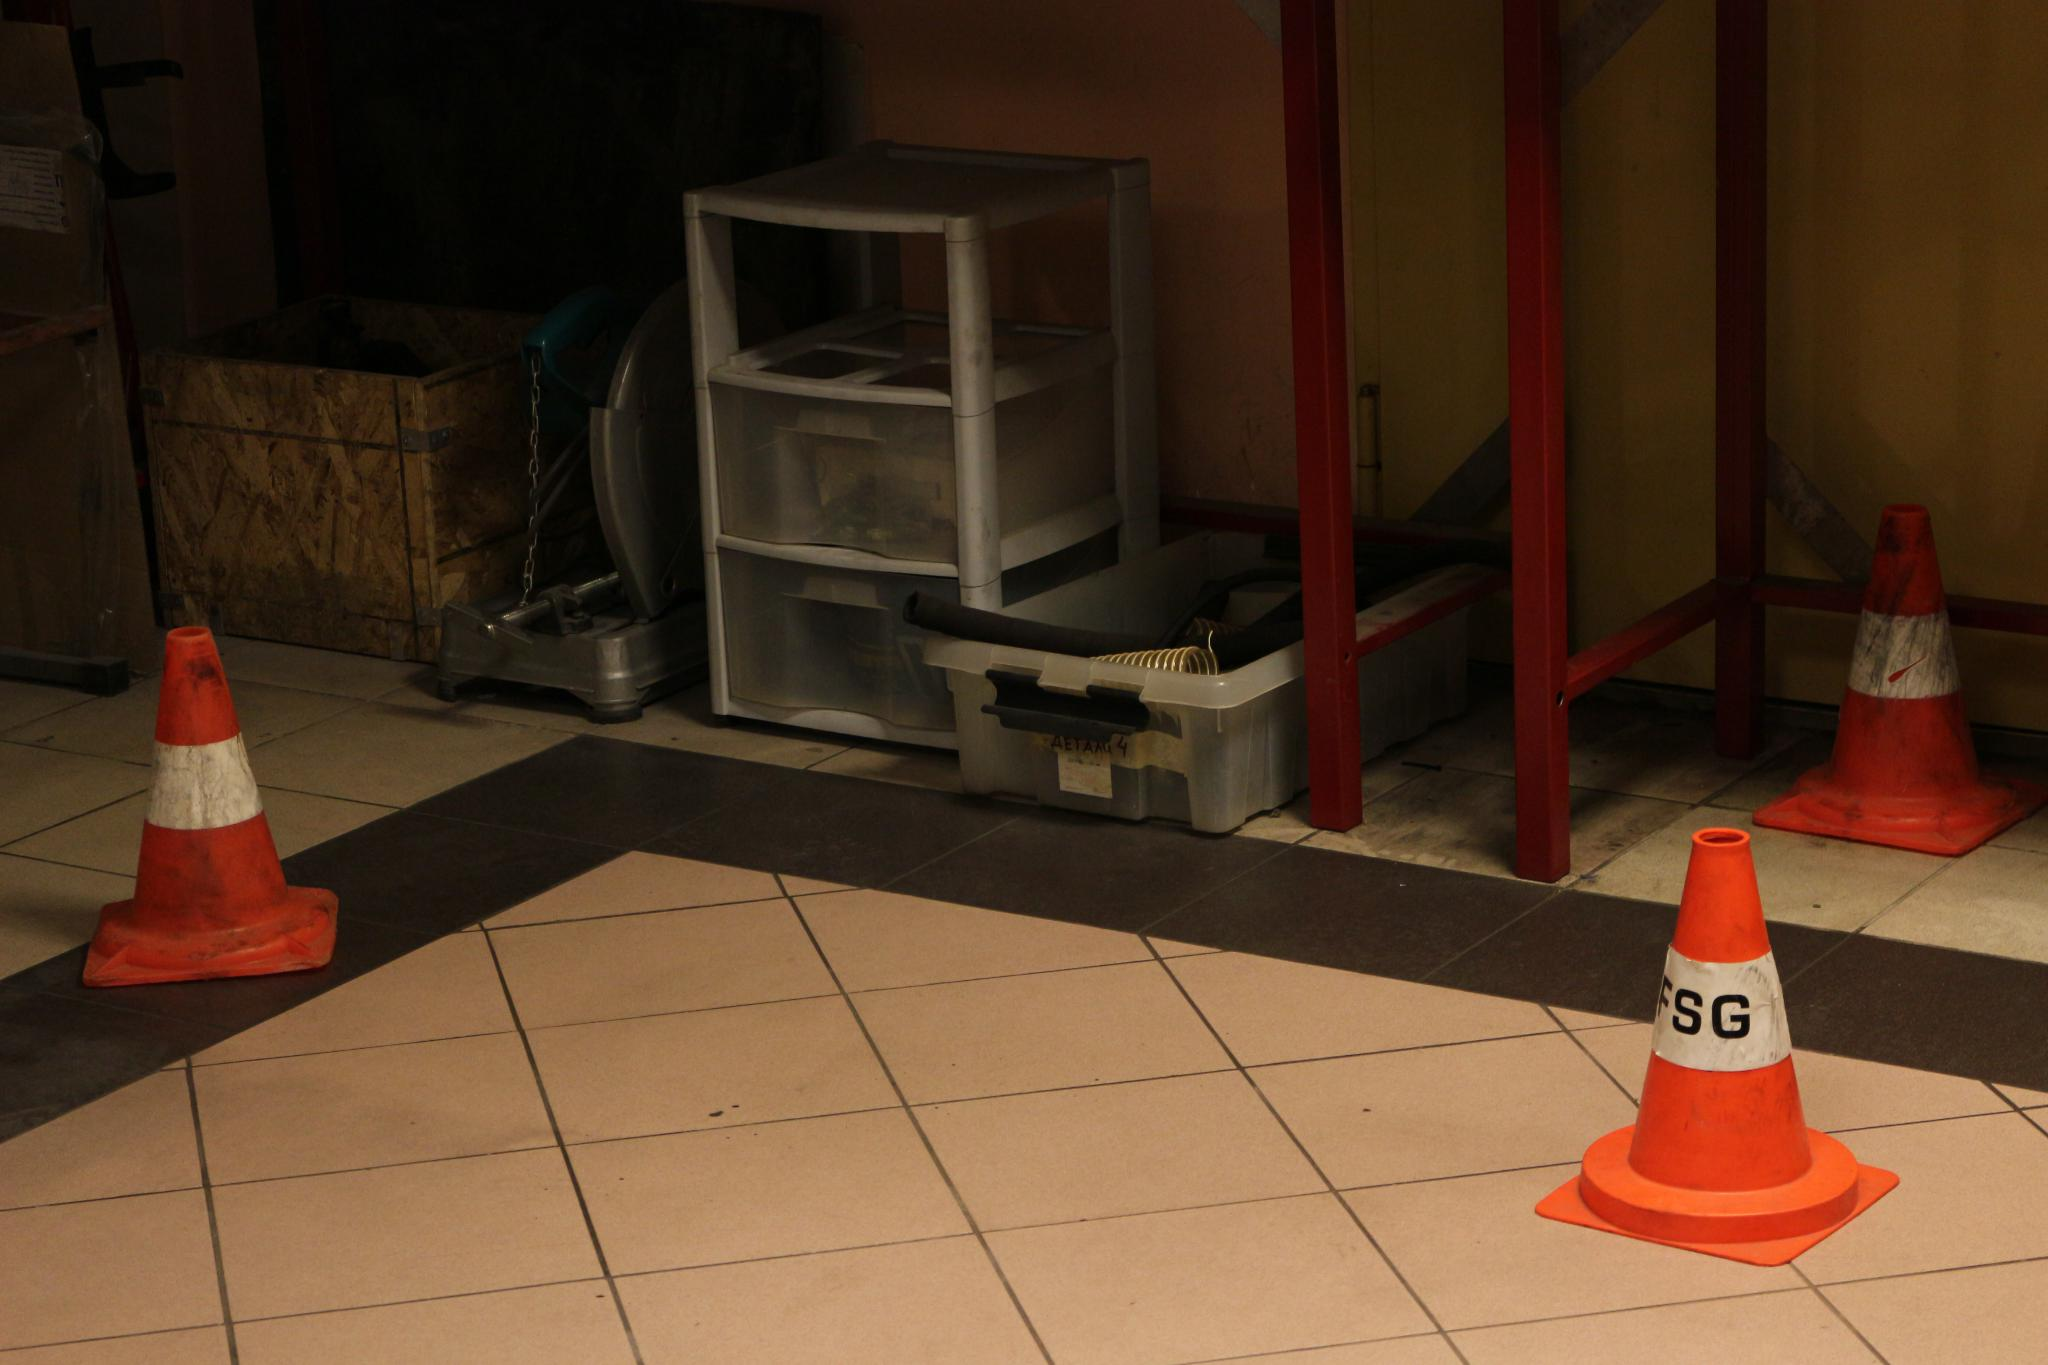Orange_Cone: (1564, 817, 1885, 1243), (85, 606, 329, 964), (1777, 495, 2022, 841)
